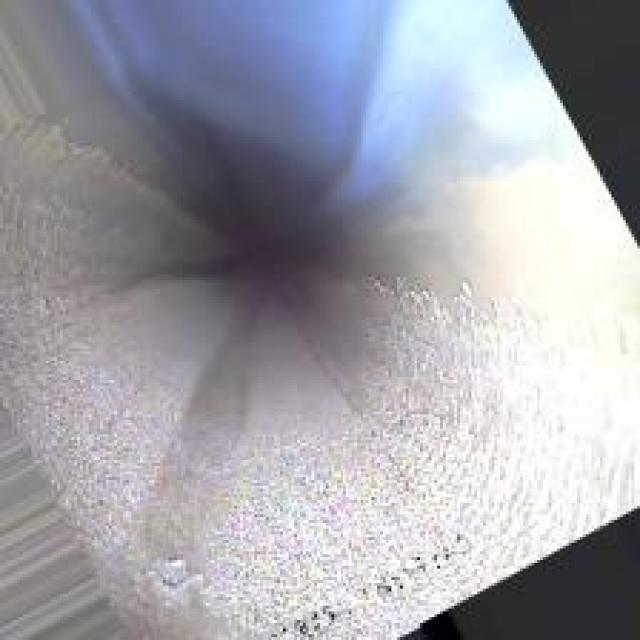ferrule: (134, 546, 200, 597)
